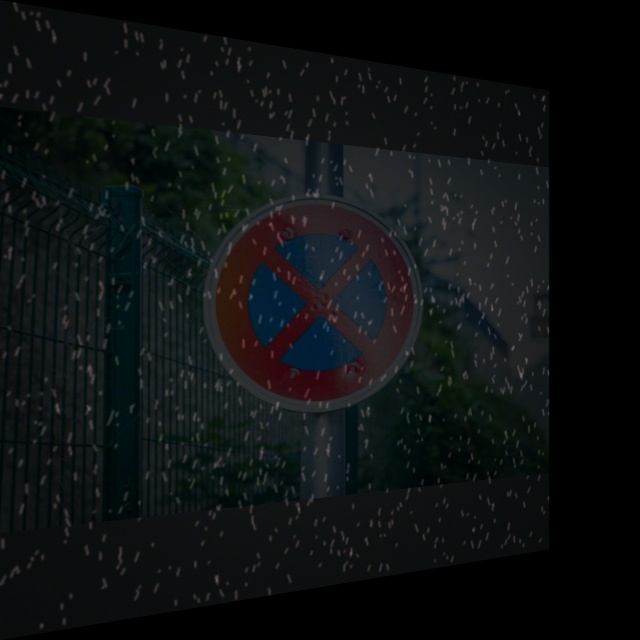No_Stopping_or_Standing: (208, 201, 423, 407)
